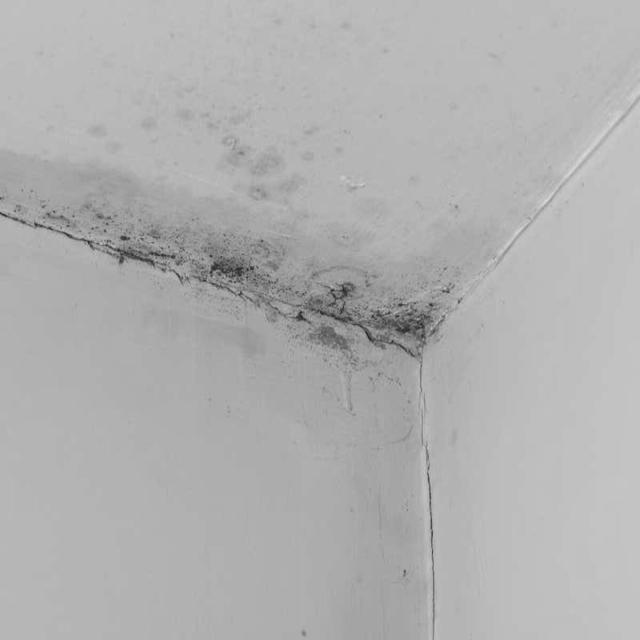stain marks: (0, 104, 460, 367)
